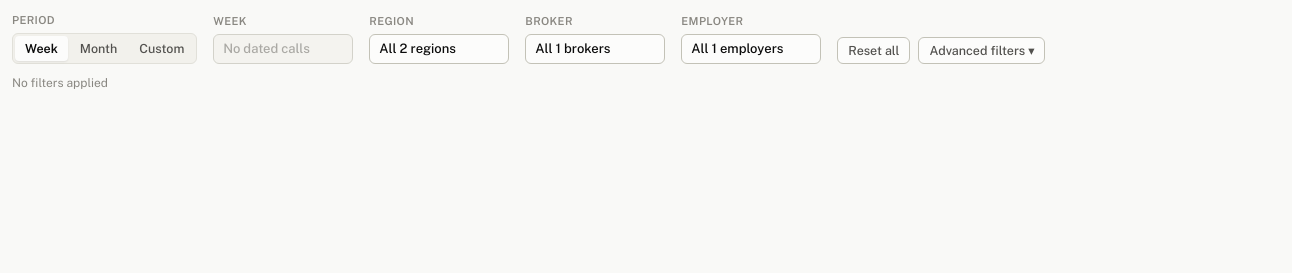
FilterBar › filters on repeat contact, in words a reader can act on
The image size is (1292, 273).
Click the button "Advanced filters ▾". click: (982, 50)
box: [918, 36, 1045, 64]
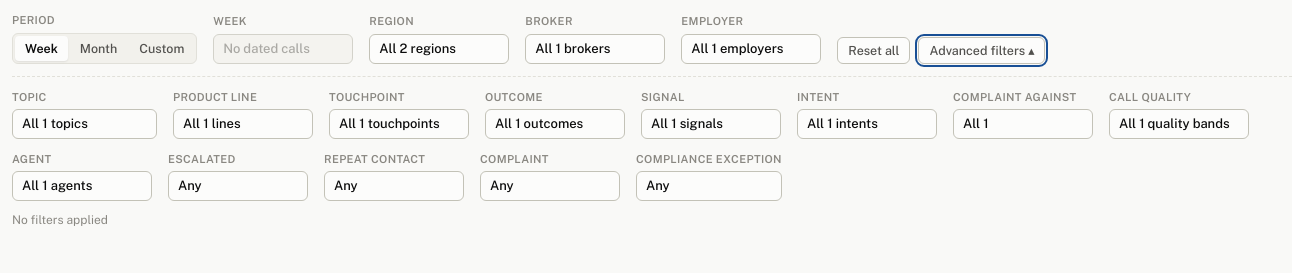
Select "Repeat only" in the dropdown labelled "Repeat contact". click: (394, 186)
box: [324, 171, 464, 201]
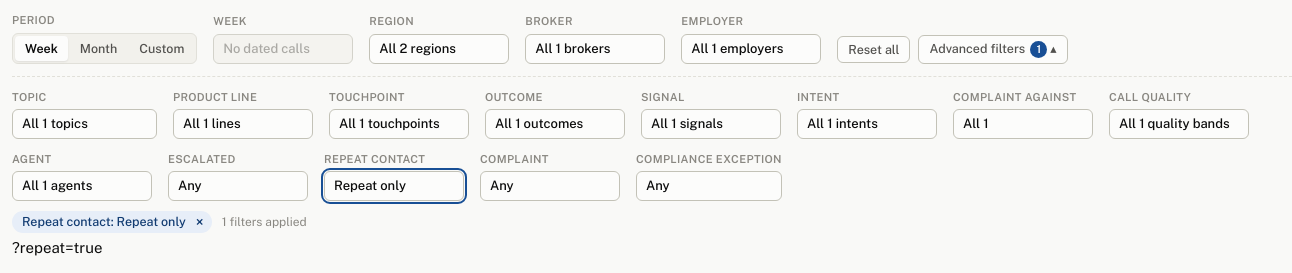
Expected: the text with test id "address" shows "repeat=true", [12, 239, 102, 256]
Expected: the text "Repeat contact: Repeat only ×" is shown, [12, 211, 212, 233]
